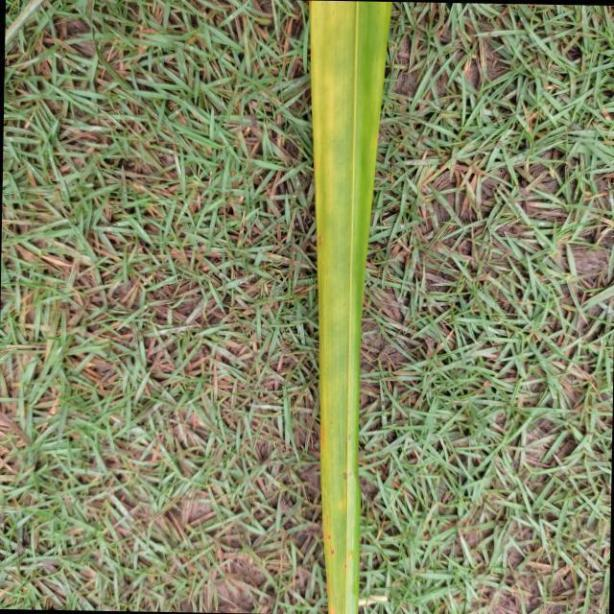nitrogen: (307, 0, 390, 614)
